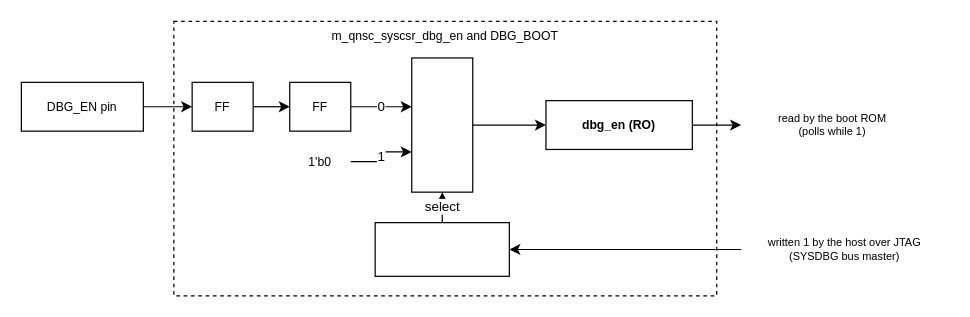
This 970x317 diagram has some shape labels left out. Each missing label, with the box of its shape:
dbg_en_mask (RW, reset 0): (374, 221, 509, 276)
mux: (411, 57, 473, 192)
